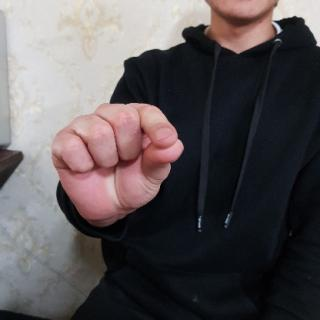FAA: (46, 98, 195, 230)
